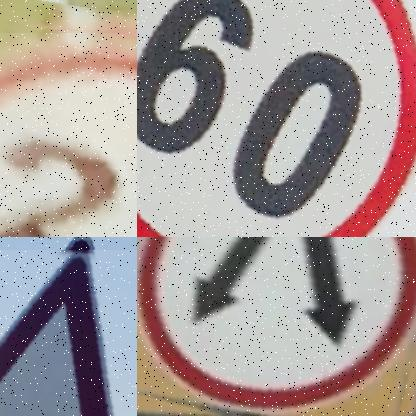Road Divides: (137, 237, 416, 416)
Speed Limit -25 kmph-: (0, 33, 137, 237)
Speed Limit -60 kmph-: (137, 0, 416, 237)
Steep Descent: (0, 251, 118, 416)
